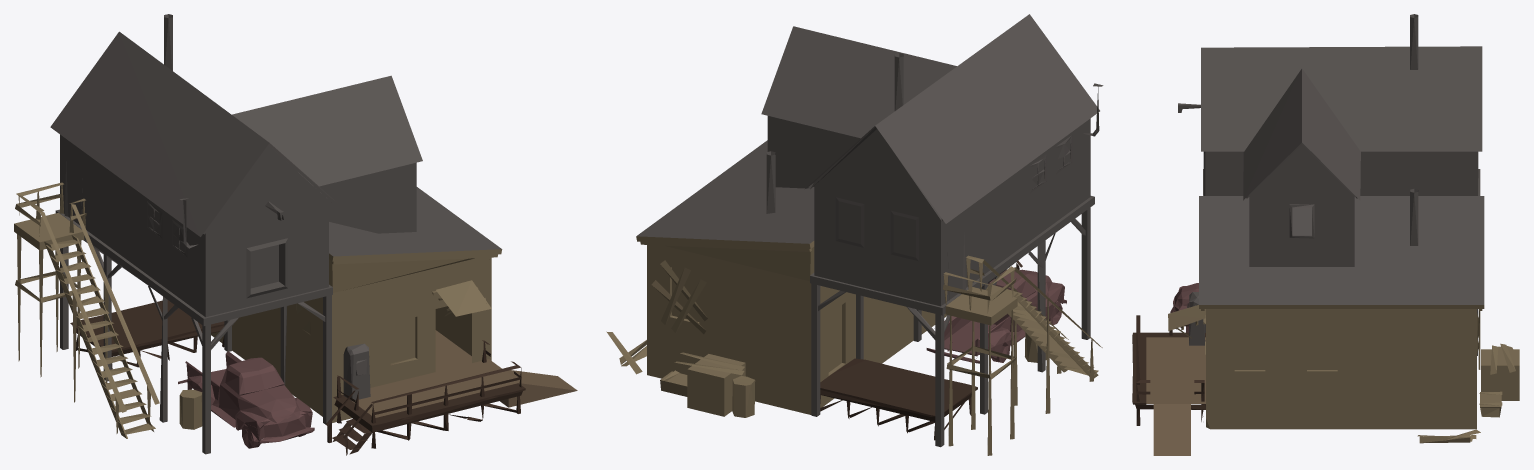
The model's file is barn.access-v1.lod1.glb.
3 views of the same model, side by side, from view 1: azimuth 30°, elevation 25°; view 2: azimuth 150°, elevation 25°; view 3: azimuth 270°, elevation 25° (orthographic). The views are drawn at different scales.
Visible parts, largest first — view 1: polySurface3_barn_0; view 2: polySurface3_barn_0; view 3: polySurface3_barn_0.
Part boxes in pixels (<box>): polySurface3_barn_0: <box>14,14,577,455</box>; polySurface3_barn_0: <box>606,14,1103,455</box>; polySurface3_barn_0: <box>1132,14,1519,455</box>.
Bounding box in the file's own units: 13.58 × 11.19 × 12.41.
